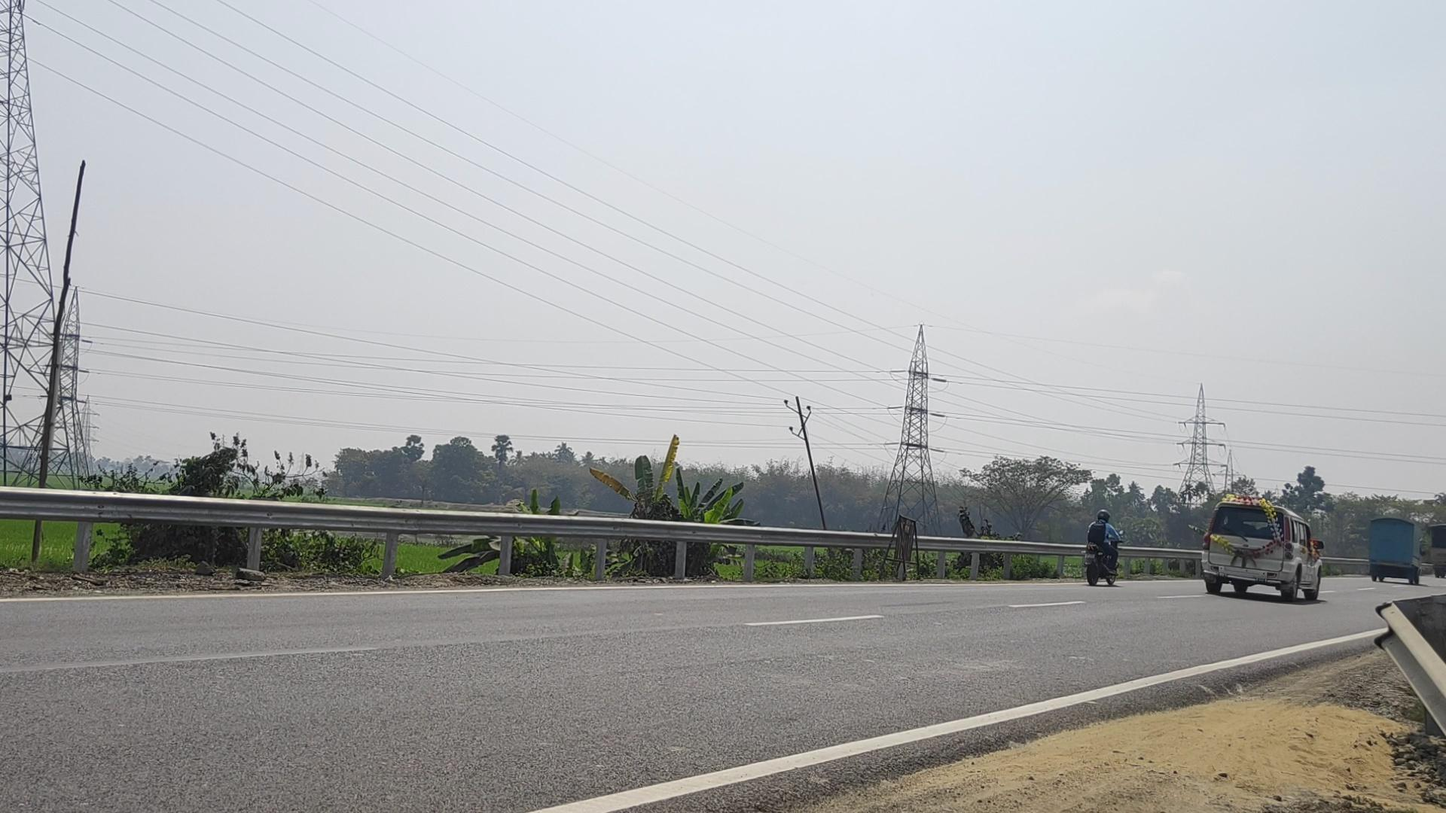bike: (1081, 509, 1124, 586)
car: (1200, 495, 1325, 603)
van: (1368, 517, 1424, 584)
